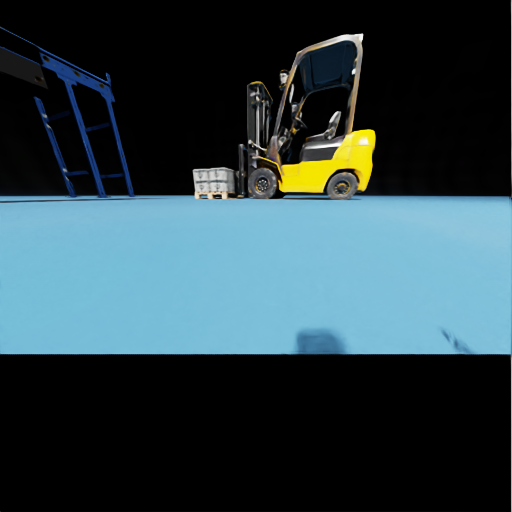transportation_area: (209, 180, 238, 191)
